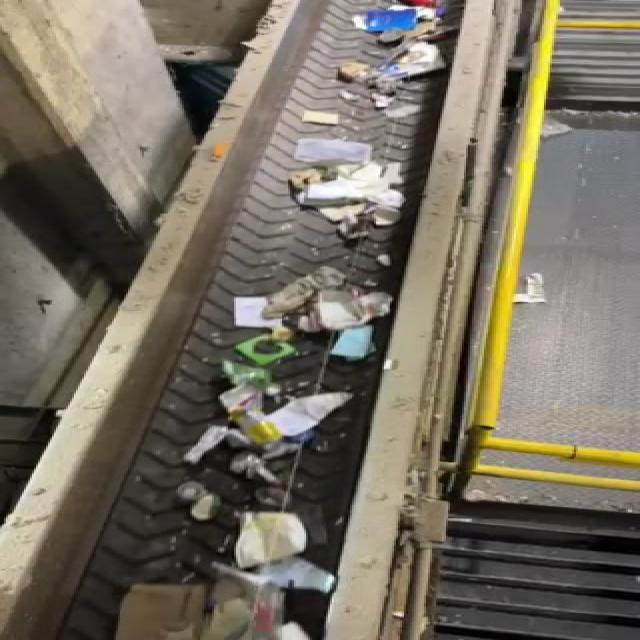metal: (222, 404, 288, 458)
paper: (109, 576, 216, 640)
